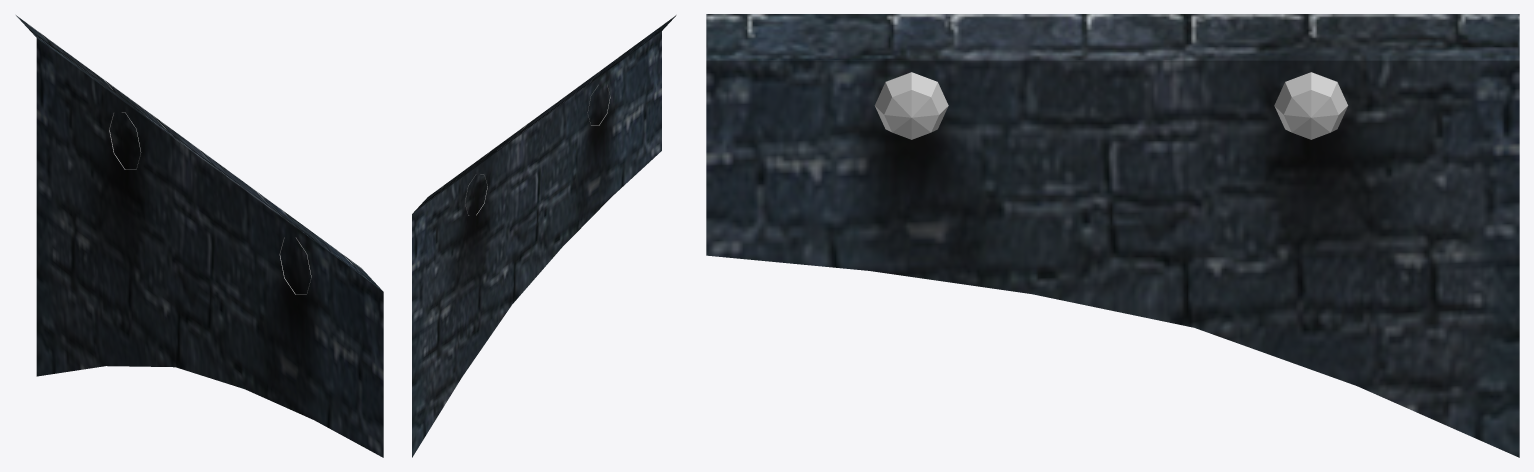
The picture shows the model from 3 angles, left to right: view 1: azimuth 30°, elevation 25°; view 2: azimuth 150°, elevation 25°; view 3: azimuth 270°, elevation 25°; orthographic projection. The views are drawn at different scales.
Parts seen in each view (by area): view 1: xs_wj06; view 2: xs_wj06; view 3: xs_wj06.
Boxes of the visible parts, <box> form: xs_wj06: <box>16,15,383,457</box>; xs_wj06: <box>412,15,676,457</box>; xs_wj06: <box>706,14,1519,457</box>.
Size of the model in its own units: 110 by 892 by 1524.
